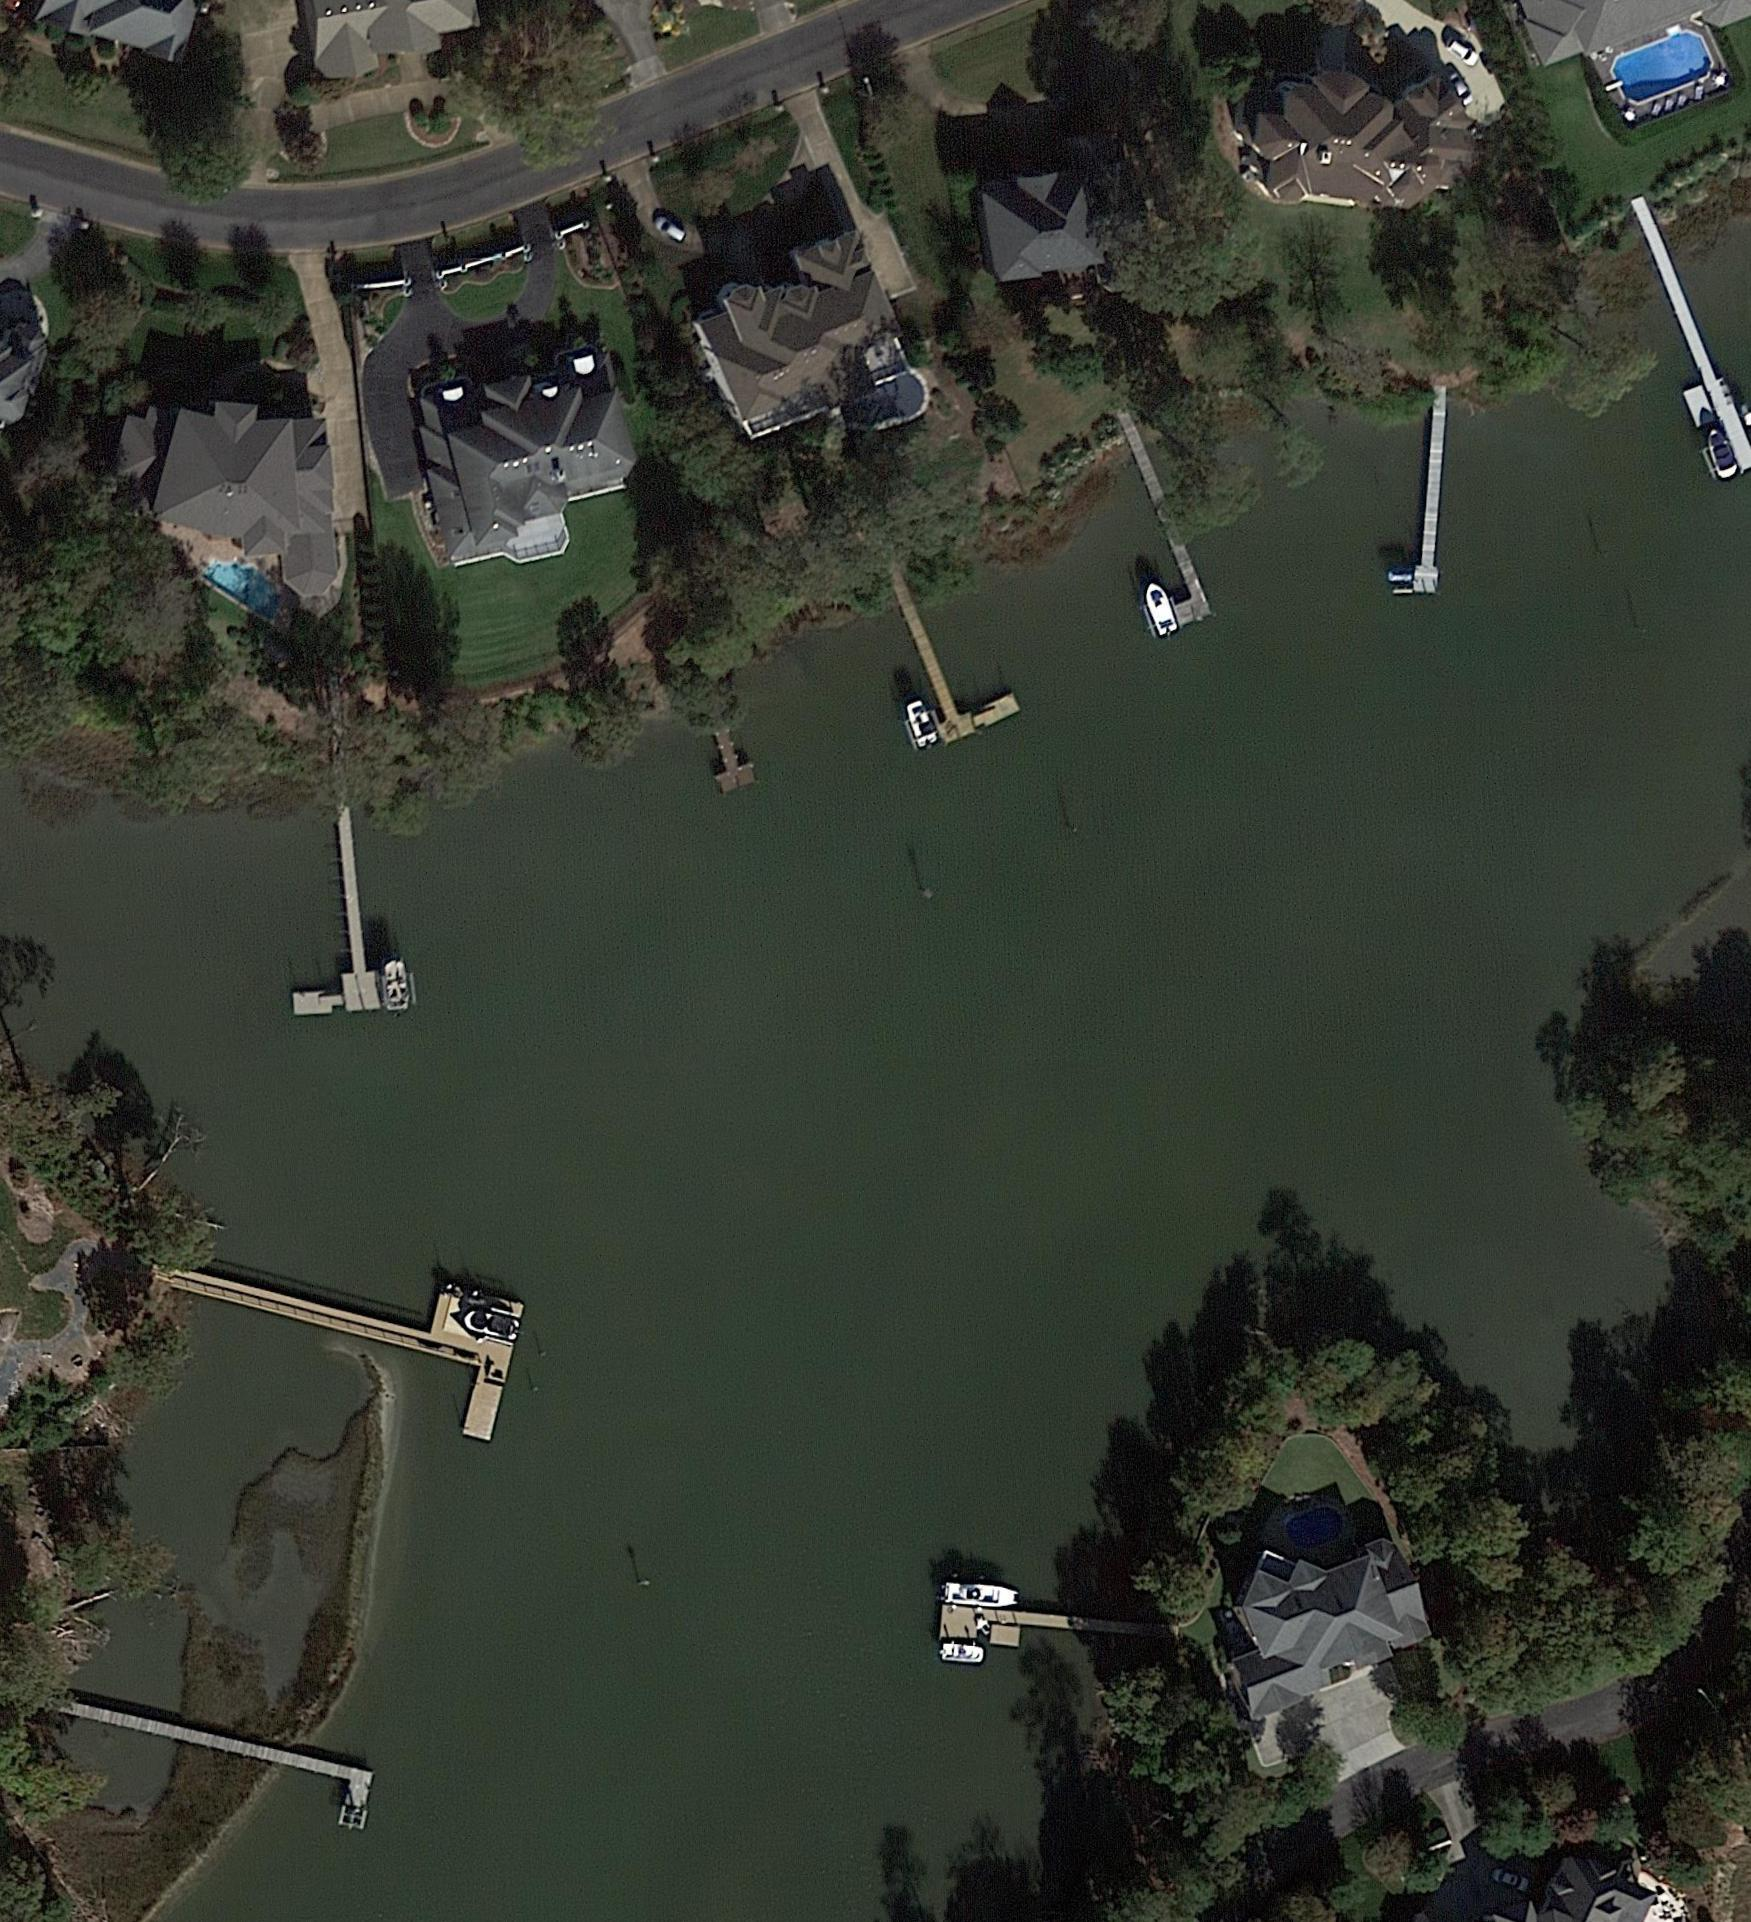harbor: (244, 1244, 531, 1445), (122, 1714, 378, 1832), (281, 810, 418, 1018), (891, 583, 1024, 748), (1641, 238, 1748, 440), (937, 1606, 1093, 1656), (1152, 539, 1215, 631), (1415, 434, 1450, 593), (701, 723, 760, 797)
ship: (454, 1303, 526, 1344), (937, 1579, 1023, 1611), (1137, 578, 1180, 640), (901, 695, 942, 750), (1702, 425, 1741, 482), (378, 953, 410, 1011), (937, 1642, 989, 1666)
